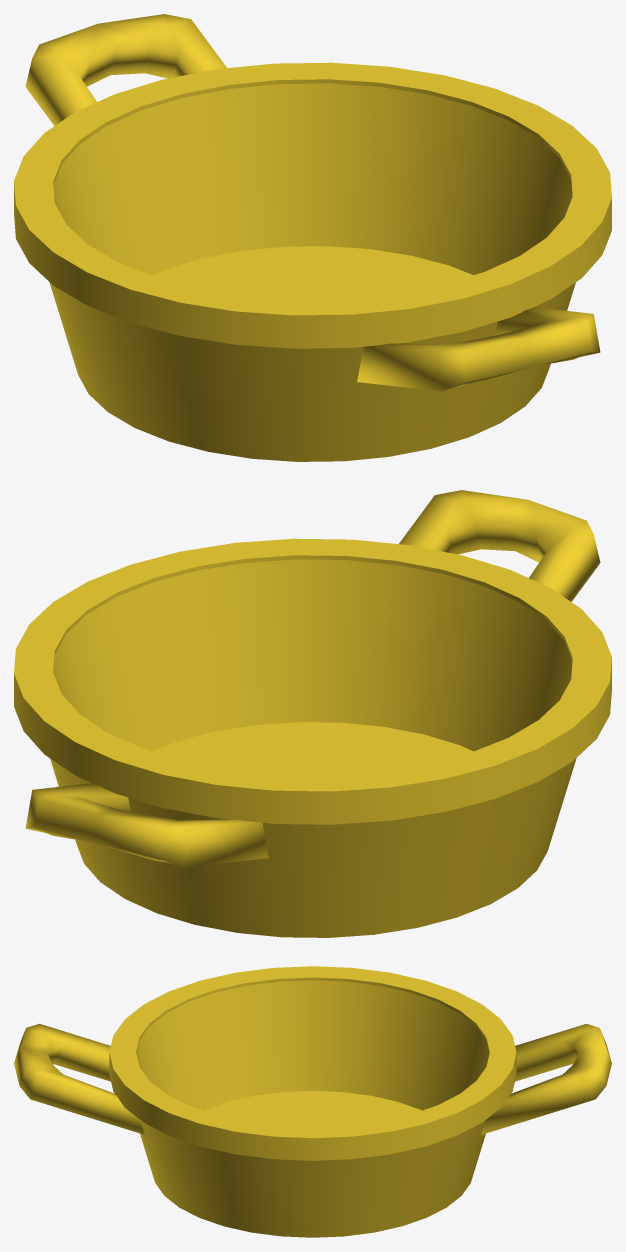
File: pot_smooth.fbx
The picture shows the model from 3 angles, top to bottom: view 1: azimuth 30°, elevation 25°; view 2: azimuth 150°, elevation 25°; view 3: azimuth 270°, elevation 25°; orthographic projection. The views are drawn at different scales.
Parts seen in each view (by area): view 1: pot, pothand; view 2: pot, pothand; view 3: pot, pothand.
Part boxes in pixels (x1=…): pot: x1=14, y1=62, x2=611, y2=461; pothand: x1=25, y1=14, x2=600, y2=391; pot: x1=14, y1=538, x2=611, y2=937; pothand: x1=25, y1=490, x2=600, y2=867; pot: x1=109, y1=966, x2=516, y2=1237; pothand: x1=14, y1=1023, x2=611, y2=1134.
Bounding box in the file's own units: 208 × 69.14 × 305.
